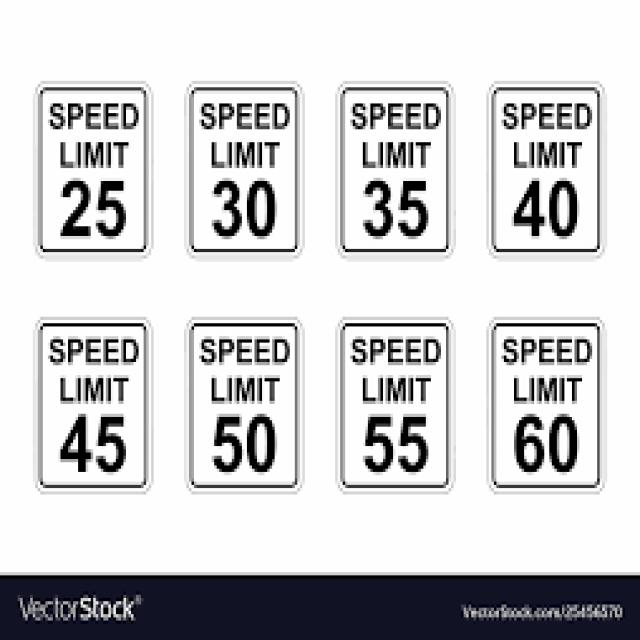speedLimit35: (187, 82, 298, 250)
